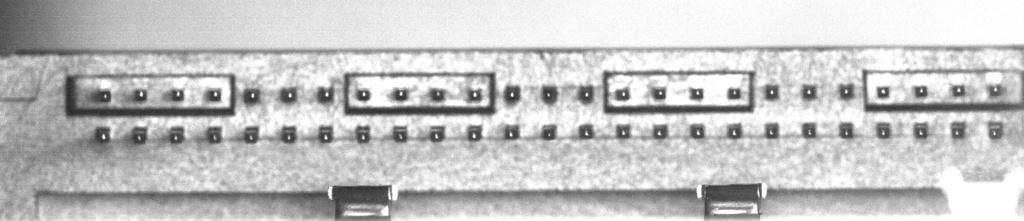pin_ok: (541, 85, 558, 103), (987, 121, 1004, 139), (950, 121, 967, 138), (504, 84, 520, 102), (316, 86, 334, 102), (206, 125, 222, 143), (578, 85, 594, 102), (838, 83, 855, 99), (243, 126, 259, 143), (94, 126, 111, 142), (839, 121, 855, 138), (355, 125, 371, 142), (169, 126, 185, 143), (392, 125, 408, 142), (131, 127, 147, 144), (242, 88, 260, 103), (318, 125, 333, 143), (281, 126, 297, 142), (503, 124, 519, 140), (913, 123, 929, 139), (801, 122, 817, 138), (280, 87, 297, 102), (764, 84, 780, 99), (801, 84, 817, 99), (467, 125, 482, 141), (429, 125, 444, 141), (689, 123, 705, 138), (652, 124, 668, 139), (542, 124, 557, 139), (876, 123, 891, 138), (579, 124, 594, 139), (727, 123, 742, 138), (468, 87, 483, 102), (615, 124, 631, 138), (651, 86, 667, 100), (614, 87, 630, 101), (765, 123, 779, 138), (727, 86, 742, 100), (394, 87, 409, 101), (987, 84, 1003, 97), (430, 88, 446, 101), (914, 84, 928, 98), (170, 88, 185, 101), (875, 85, 890, 98), (689, 87, 704, 100), (356, 88, 371, 101), (952, 84, 966, 97), (208, 88, 222, 101), (133, 88, 147, 101), (97, 89, 111, 102)
